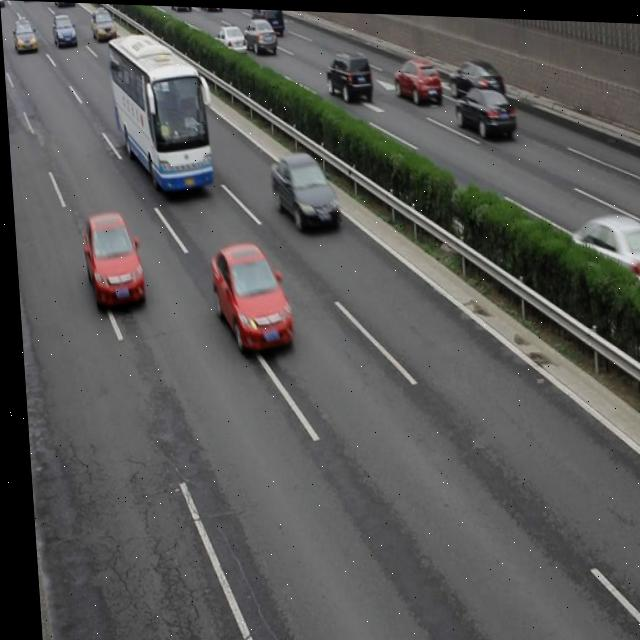car: (206, 239, 290, 352), (559, 208, 640, 300), (78, 212, 143, 308), (268, 151, 337, 229), (453, 84, 514, 136), (447, 55, 504, 102), (324, 49, 371, 100), (392, 55, 441, 101), (243, 16, 277, 53), (214, 24, 247, 56), (13, 18, 39, 53), (52, 13, 77, 48), (90, 7, 115, 40), (134, 4, 155, 11), (169, 5, 190, 12)
truck: (252, 7, 284, 31)
van: (108, 33, 212, 193)
